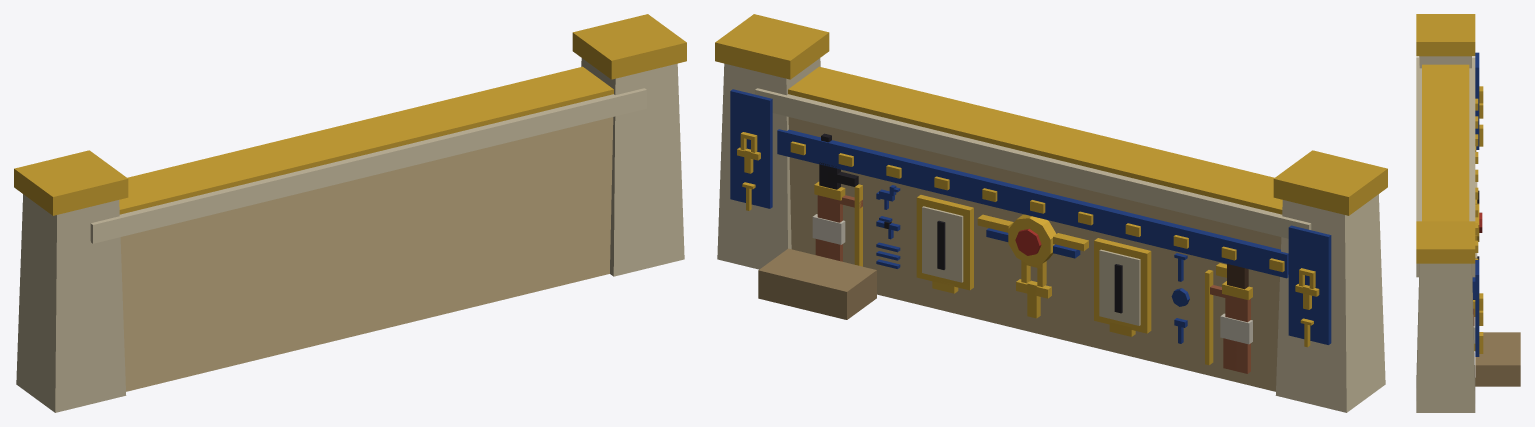
The model's file is Decor_PharaohPyramid_HieroWall.fbx.
3 renders of one model, left to right at view 1: azimuth 30°, elevation 25°; view 2: azimuth 150°, elevation 25°; view 3: azimuth 270°, elevation 25°, orthographic. The views are drawn at different scales.
Parts seen in each view (by area): view 1: HieroWall_Body; view 2: HieroWall_Body; view 3: HieroWall_Body.
Part boxes in pixels (x1,y1,x2,y2): HieroWall_Body: [14, 14, 686, 412]; HieroWall_Body: [715, 14, 1387, 412]; HieroWall_Body: [1416, 14, 1520, 412].
Size of the model in its own units: 28.2 by 9.2 by 5.3.
